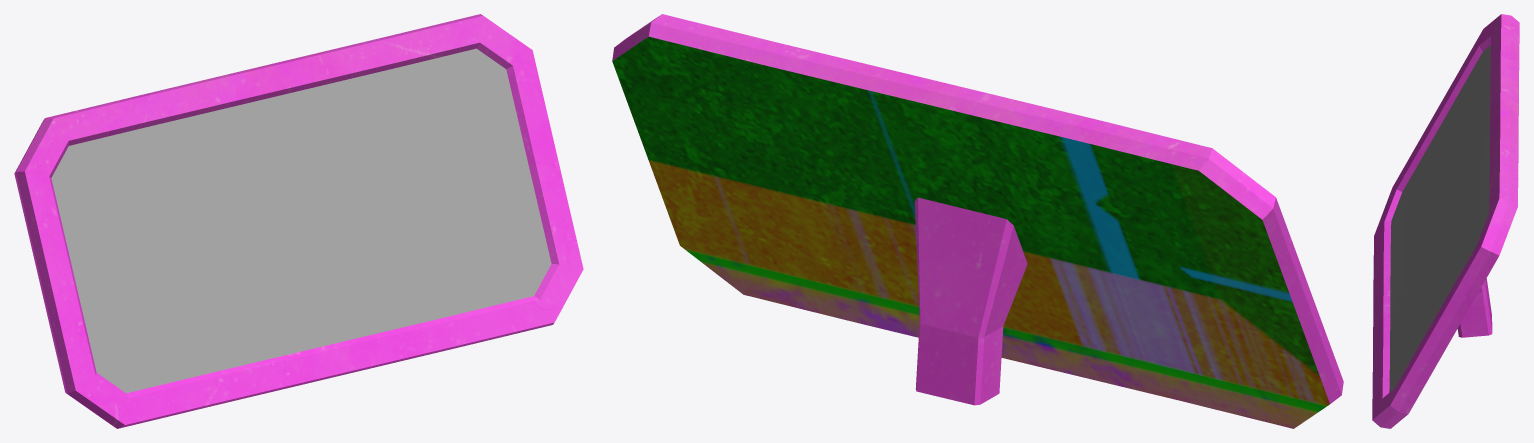
The model's file is ConsoleMonitor_01_SM_Low.fbx.
The picture shows the model from 3 angles, left to right: view 1: azimuth 30°, elevation 25°; view 2: azimuth 150°, elevation 25°; view 3: azimuth 270°, elevation 25°; orthographic projection. The views are drawn at different scales.
Parts seen in each view (by area): view 1: tabletMain; view 2: tabletMain; view 3: tabletMain.
Boxes of the visible parts, bbox=[...] form: tabletMain: bbox=[14, 14, 583, 428]; tabletMain: bbox=[612, 14, 1343, 428]; tabletMain: bbox=[1372, 14, 1519, 428].
Size of the model in its own units: 89.86 by 44.14 by 25.46.
2 materials, 1 textured.
